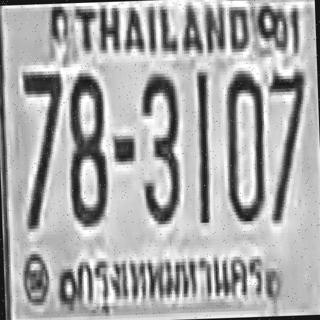N00: (223, 67, 266, 218)
N01: (194, 69, 211, 223)
N03: (138, 70, 181, 221)
N07: (20, 68, 65, 226), (266, 66, 308, 220)
N08: (66, 69, 107, 224)
P04: (71, 247, 268, 313)
